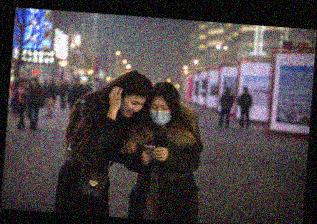with_mask: (148, 101, 173, 126)
without_mask: (119, 98, 146, 119)
